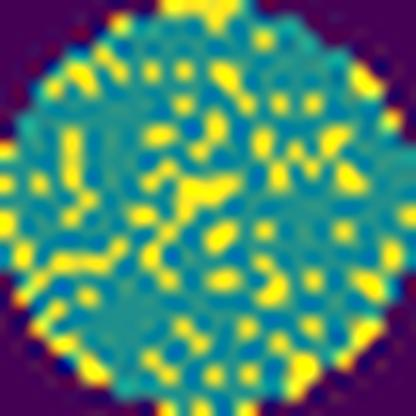Center: (140, 154, 249, 297)
